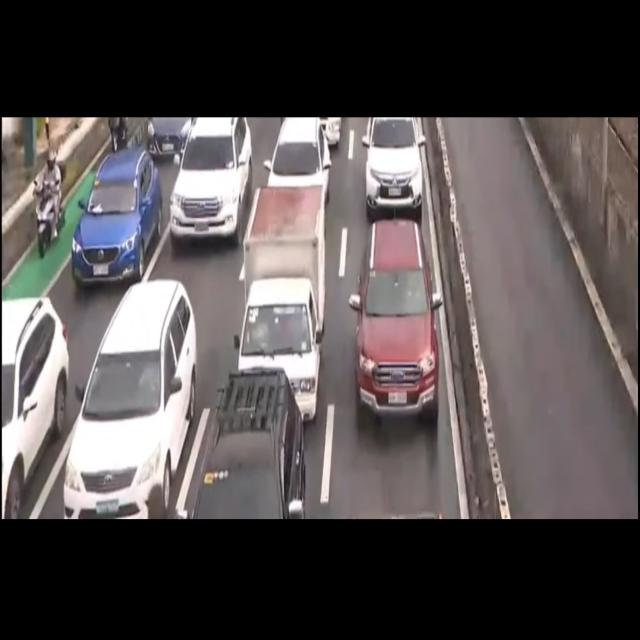Motorcycle: (25, 138, 66, 264)
SUV: (60, 282, 192, 514), (186, 370, 306, 529), (355, 225, 440, 428), (0, 296, 71, 518), (175, 118, 248, 250), (361, 116, 427, 220), (273, 120, 330, 215)
Sedan: (74, 150, 164, 288)
Truck: (237, 187, 328, 436)
